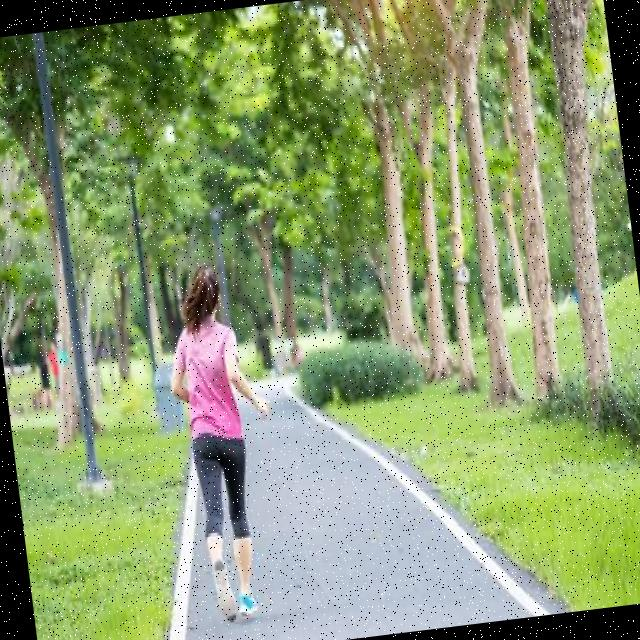Person: (156, 262, 292, 628)
